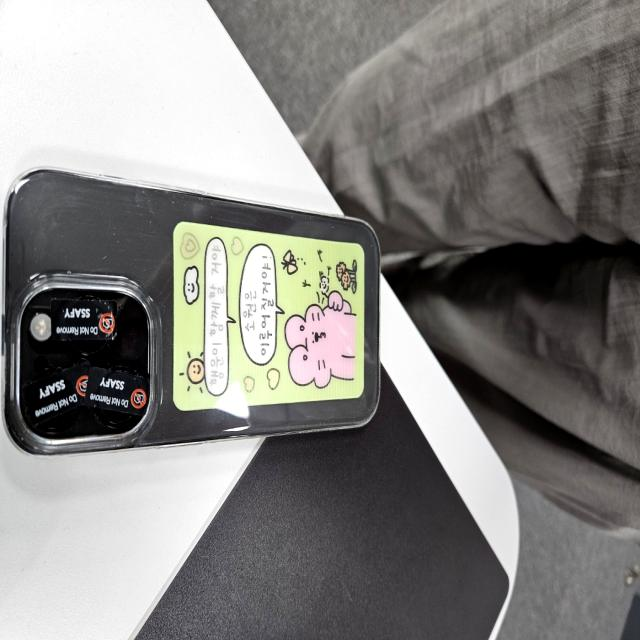phone: (8, 164, 380, 457)
sticker: (24, 362, 90, 421), (89, 366, 149, 416), (51, 299, 116, 340)
